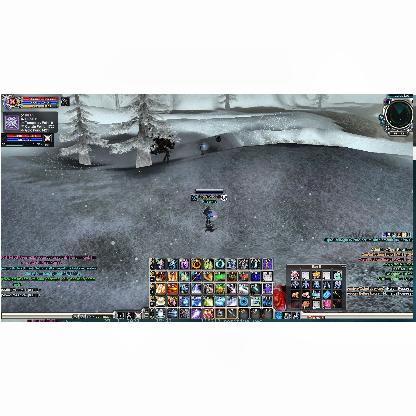caliana: (198, 142, 206, 156), (163, 151, 171, 163)
